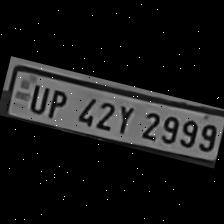2: (134, 106, 164, 143), (90, 95, 118, 133)
4: (69, 91, 100, 128)
9: (154, 109, 182, 145), (174, 112, 200, 148), (193, 118, 219, 154)
P: (41, 85, 72, 122)
U: (22, 80, 50, 116)
Y: (110, 100, 138, 136)
